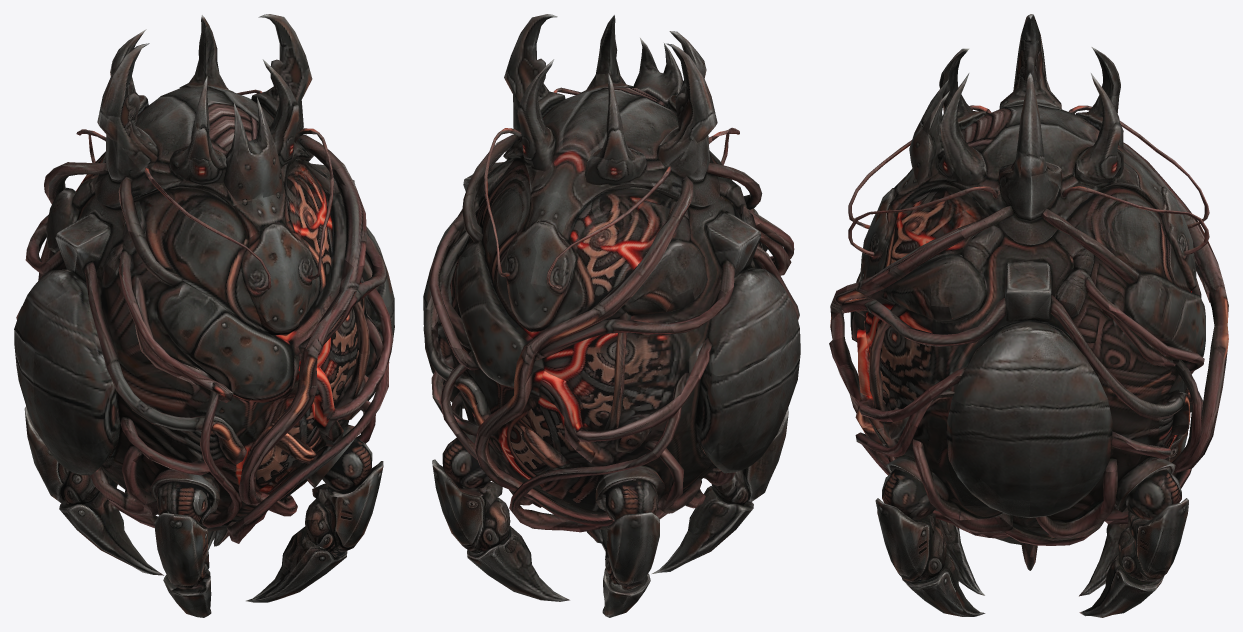
Rendered from Cocoon.glb.
3 renders of one model, left to right at view 1: azimuth 30°, elevation 25°; view 2: azimuth 150°, elevation 25°; view 3: azimuth 270°, elevation 25°, orthographic.
Parts seen in each view (by area): view 1: mesh_node; view 2: mesh_node; view 3: mesh_node.
Part boxes in pixels (x1,y1,x2,y2): mesh_node: [14, 14, 394, 617]; mesh_node: [423, 14, 800, 617]; mesh_node: [829, 14, 1228, 617].
Size of the model in its own units: 0.6426 by 1 by 0.6484.
1 material, 1 textured.
